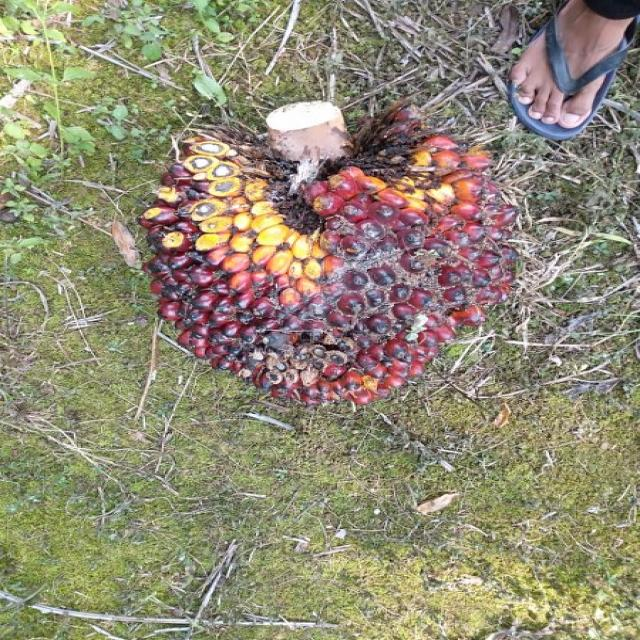fraksi 1: (91, 89, 532, 452)
